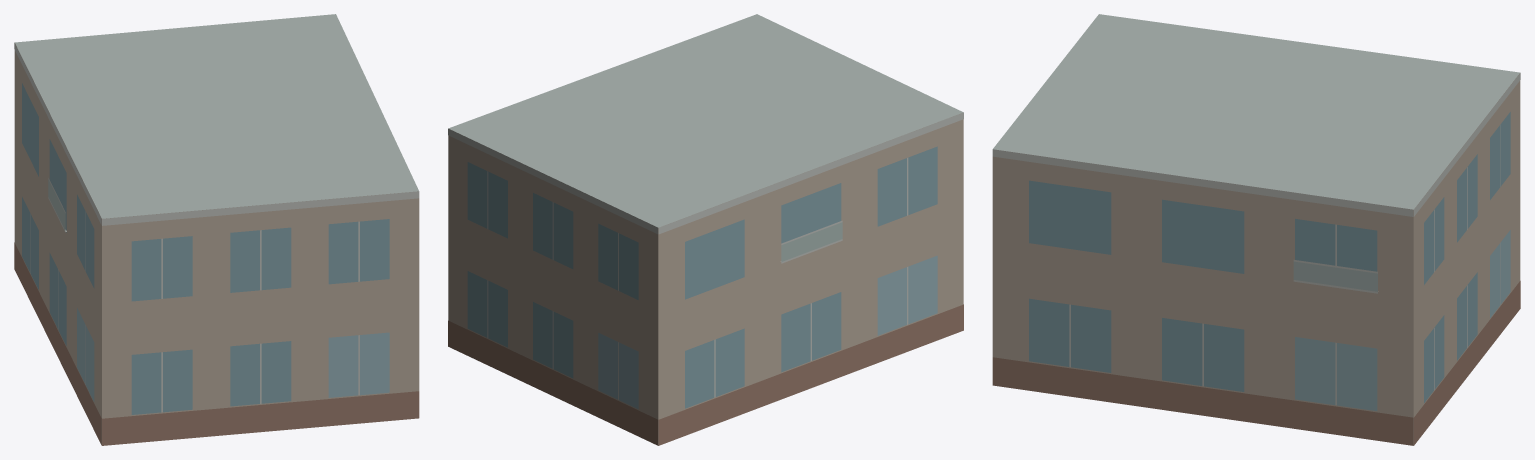
Rendered from survey-upis-32769470.glb.
3 renders of one model, left to right at view 1: azimuth 30°, elevation 25°; view 2: azimuth 150°, elevation 25°; view 3: azimuth 270°, elevation 25°, orthographic. The views are drawn at different scales.
Visible parts, largest first — view 1: survey-upis-32769470.tmp; view 2: survey-upis-32769470.tmp; view 3: survey-upis-32769470.tmp.
Part boxes in pixels (x1,y1,x2,y2): survey-upis-32769470.tmp: (14,14,419,445); survey-upis-32769470.tmp: (448,14,963,445); survey-upis-32769470.tmp: (992,14,1520,445).
Size of the model in its own units: 13.87 by 7.8 by 15.8.
